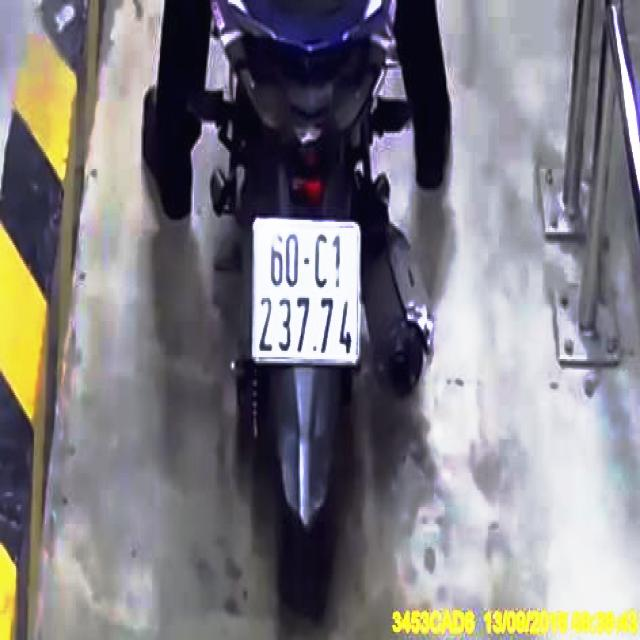license_plate: (253, 223, 360, 362)
